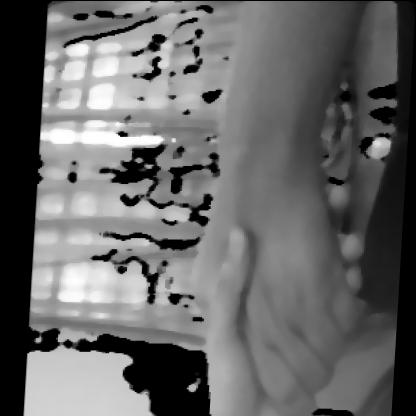handshake: (152, 14, 392, 415)
